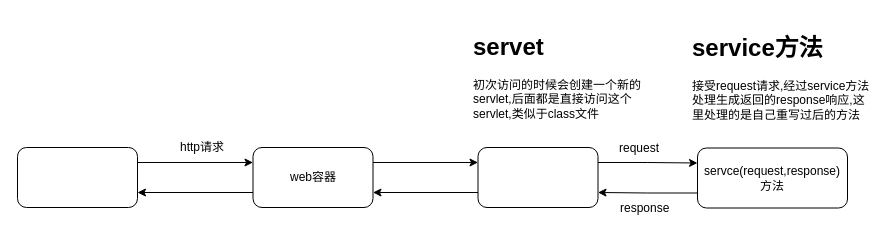
The diagram is 895 pixels wide and 235 high, and some of its shapes have lost their labels. Here are the shapes that lost their labels. From the top down, the centre of each, then its label:
point (77, 177): 浏览器
point (537, 177): servlet
